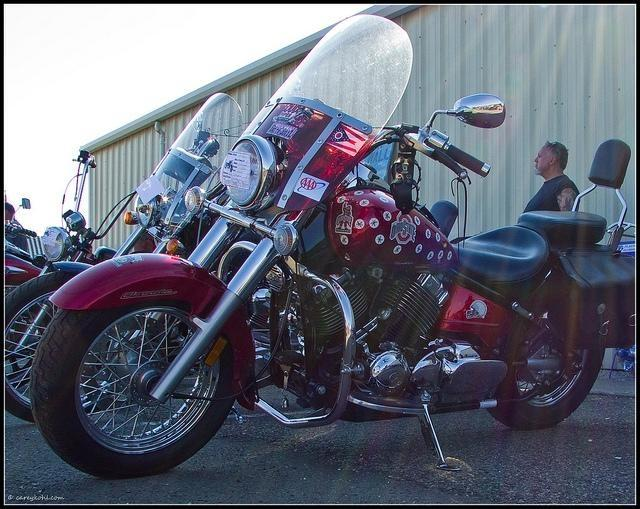motorcycle: (26, 10, 640, 480), (83, 90, 243, 254), (0, 150, 91, 403)
